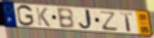B: (56, 8, 76, 30)
G: (16, 4, 36, 28)
J: (78, 9, 95, 31)
K: (34, 6, 52, 28)
T: (119, 12, 135, 33)
Z: (100, 11, 119, 32)
